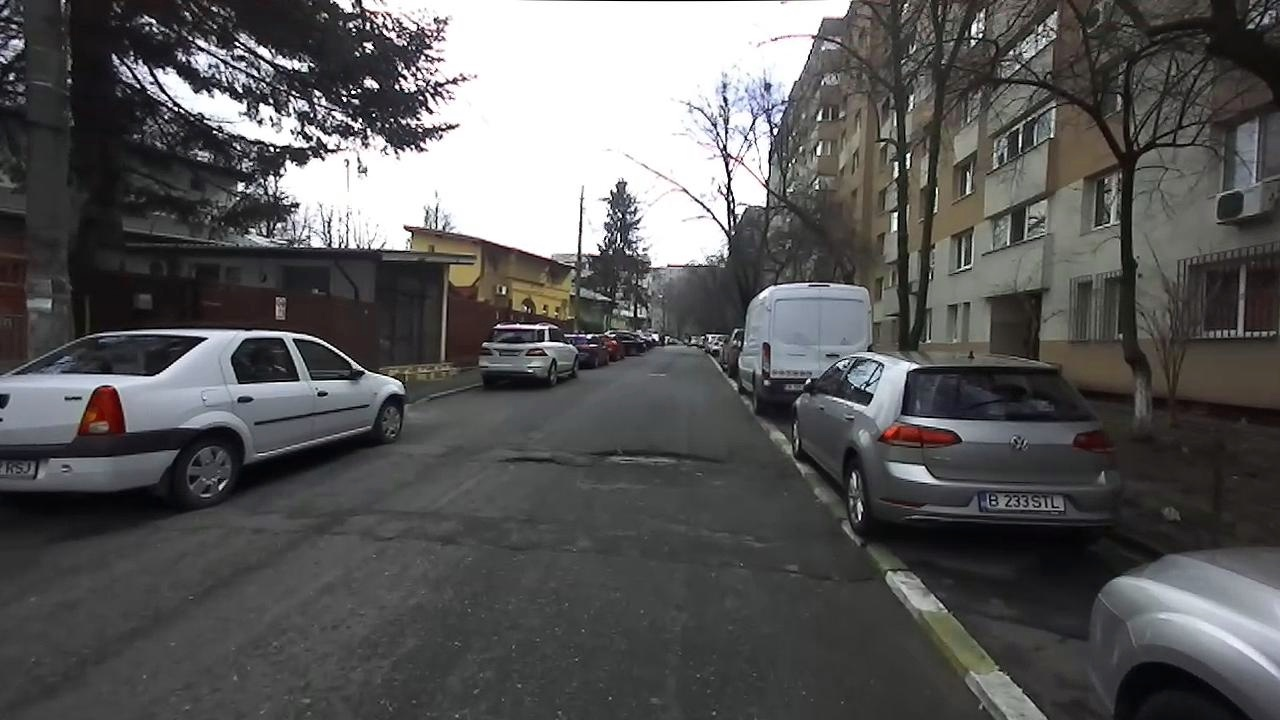pothole: (585, 446, 729, 470), (776, 561, 872, 592), (495, 451, 569, 465)
